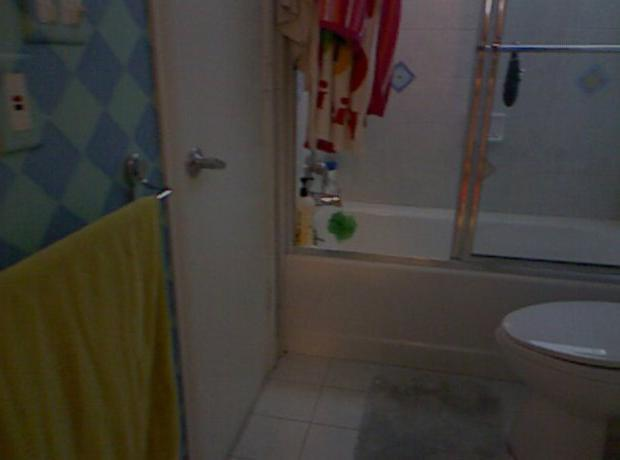Sanitario: (491, 296, 619, 455)
